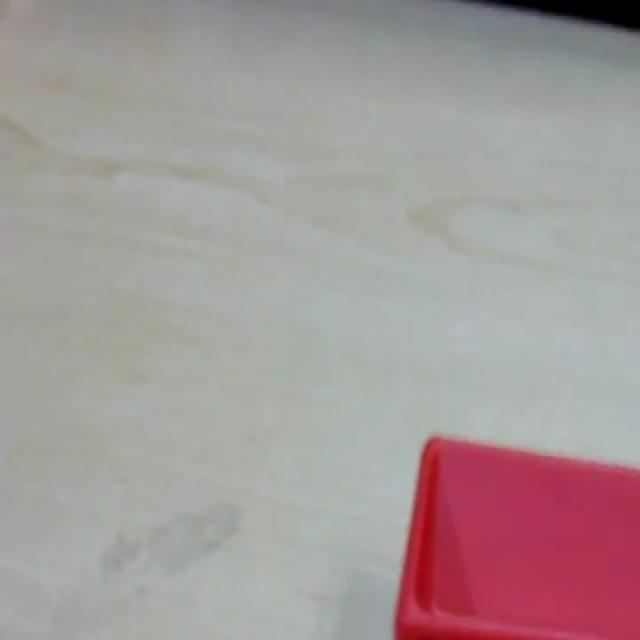red_block: (393, 430, 639, 638)
